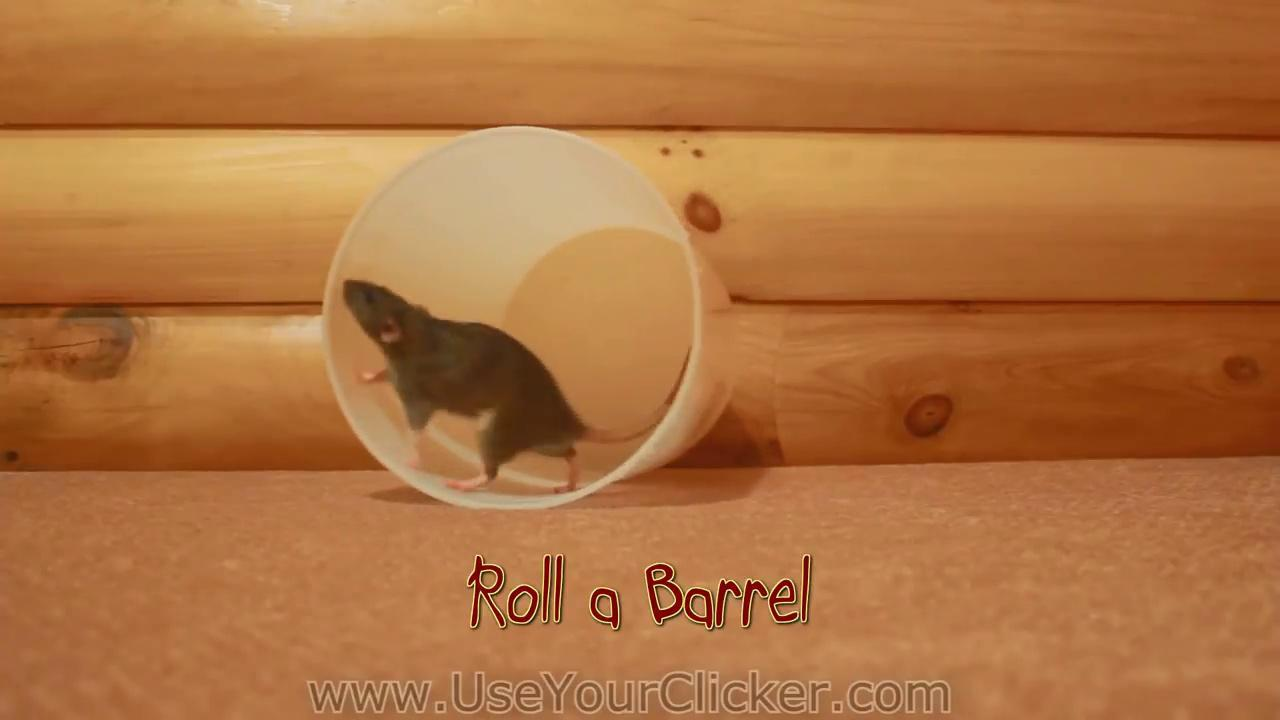rat: (344, 281, 690, 496)
